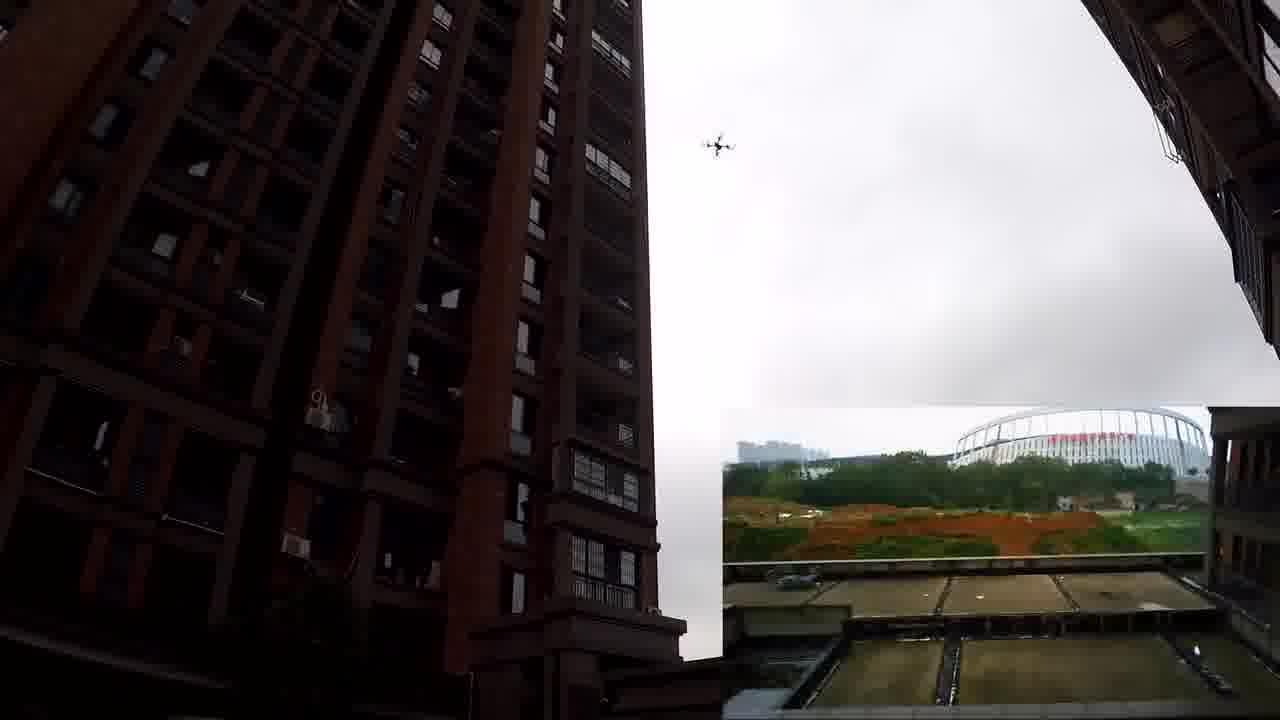drone: (703, 130, 736, 156)
